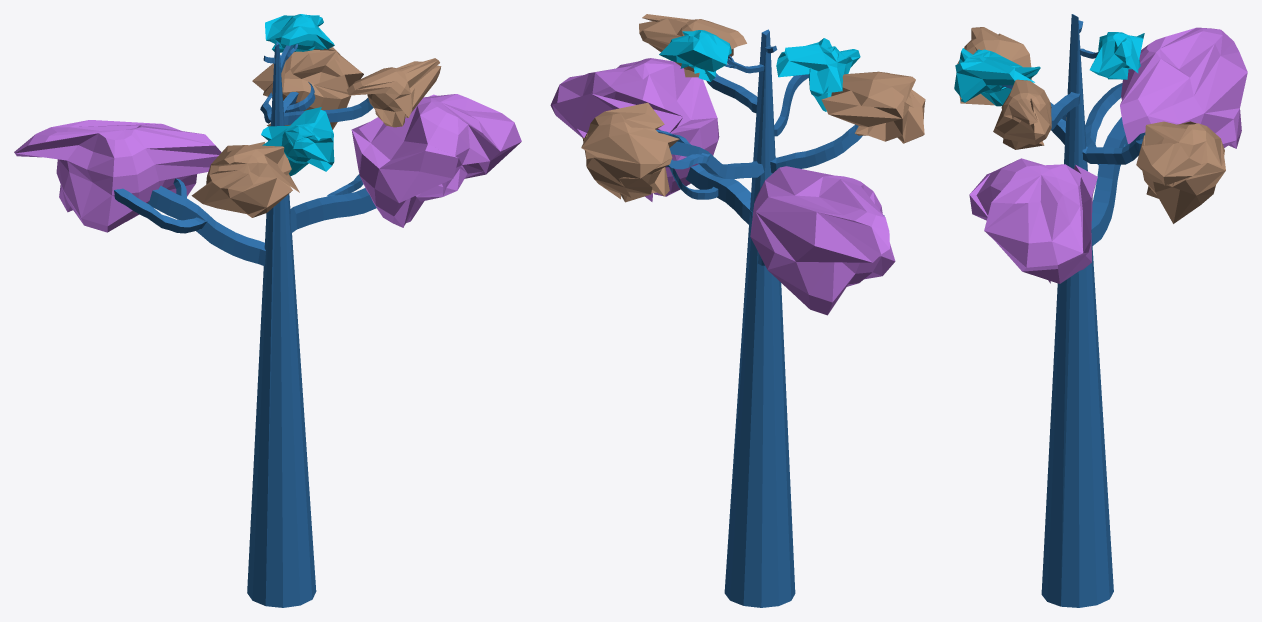
The model's file is tall_tree.fbx.
3 views of the same model, side by side, from view 1: azimuth 30°, elevation 25°; view 2: azimuth 150°, elevation 25°; view 3: azimuth 270°, elevation 25° (orthographic). The views are drawn at different scales.
Parts seen in each view (by area): view 1: mesh2039571332; view 2: mesh2039571332; view 3: mesh2039571332.
Boxes of the visible parts, <box> form: mesh2039571332: <box>14,14,521,607</box>; mesh2039571332: <box>550,14,925,607</box>; mesh2039571332: <box>954,14,1247,607</box>.
Bounding box in the file's own units: 1.38 × 1.77 × 0.8105.
